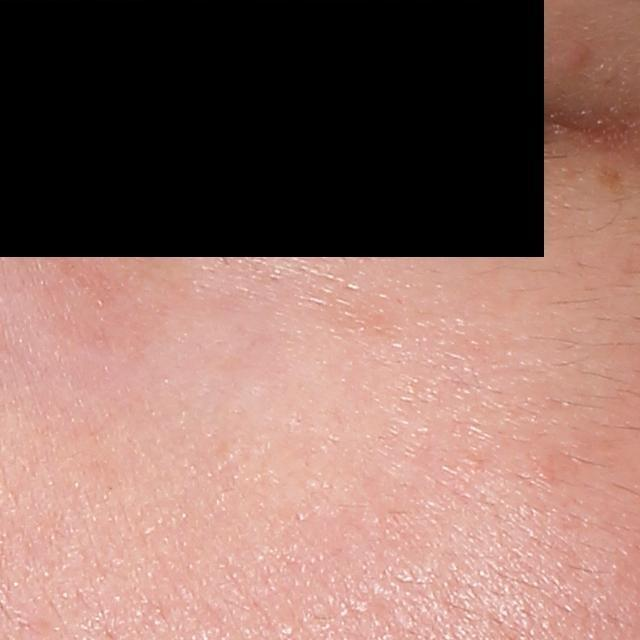papule: (560, 39, 595, 75)
